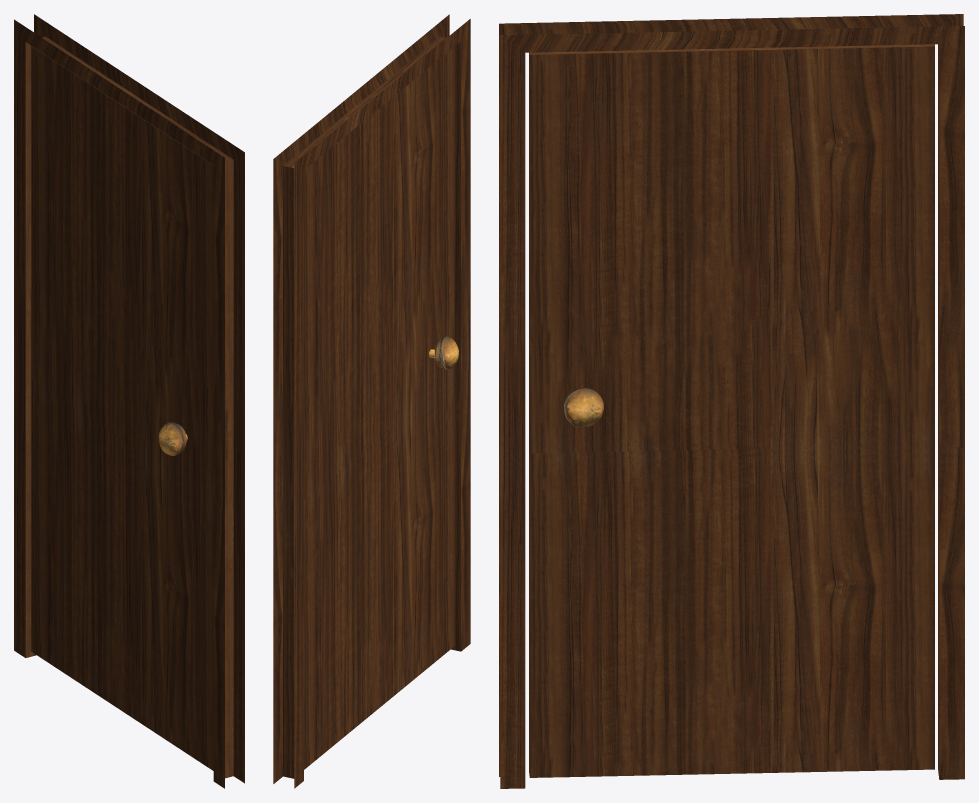
File: doors6.obj
The picture shows the model from 3 angles, left to right: view 1: azimuth 30°, elevation 25°; view 2: azimuth 150°, elevation 25°; view 3: azimuth 270°, elevation 25°; orthographic projection. The views are drawn at different scales.
Visible parts, largest first — view 1: InteriorDoor, InteriorDoorProfile, doorKnob01.001; view 2: InteriorDoor, InteriorDoorProfile, doorKnob01.001; view 3: InteriorDoor, InteriorDoorProfile, doorKnob01.
Part boxes in pixels (<box>): InteriorDoor: <box>31,46,213,770</box>; InteriorDoorProfile: <box>14,14,244,788</box>; doorKnob01.001: <box>158,422,187,455</box>; InteriorDoor: <box>304,46,455,769</box>; InteriorDoorProfile: <box>273,14,470,788</box>; doorKnob01.001: <box>429,336,458,369</box>; InteriorDoor: <box>529,44,934,777</box>; InteriorDoorProfile: <box>499,14,964,788</box>; doorKnob01: <box>564,387,603,427</box>.
Bounding box in the file's own units: 9.83 × 92.83 × 52.
